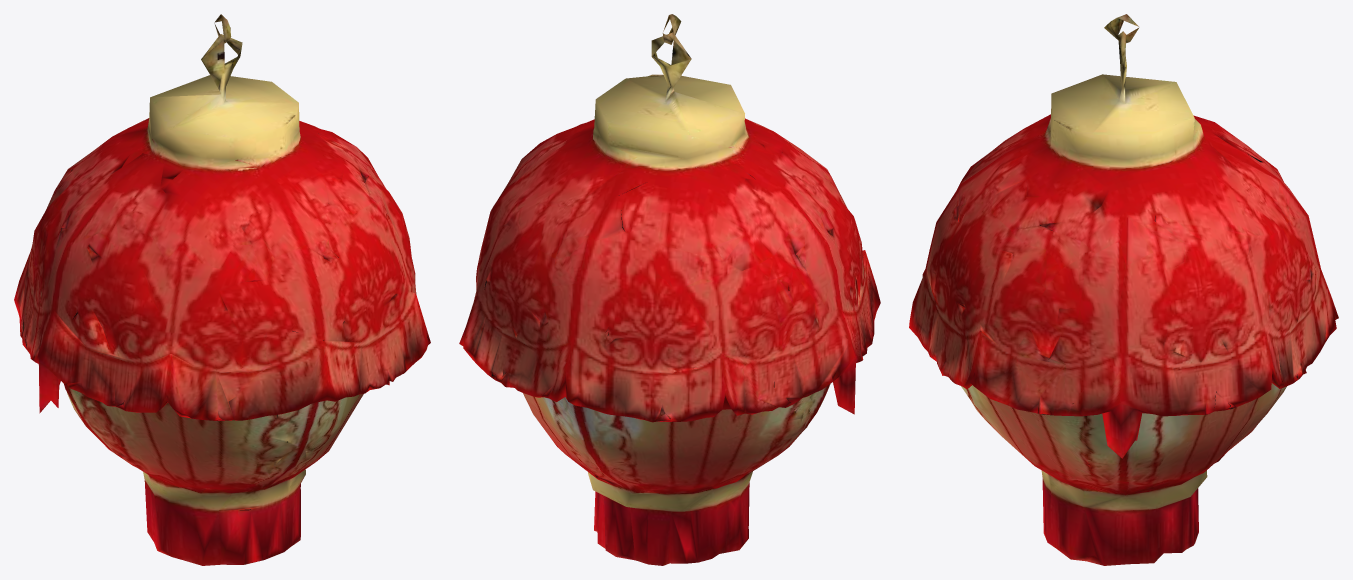
File: lib_lantern.bk.glb
3 renders of one model, left to right at view 1: azimuth 30°, elevation 25°; view 2: azimuth 150°, elevation 25°; view 3: azimuth 270°, elevation 25°, orthographic.
Visible parts, largest first — view 1: lo; view 2: lo; view 3: lo.
Part boxes in pixels (x1=…): lo: x1=14, y1=14, x2=430, y2=565; lo: x1=459, y1=14, x2=880, y2=565; lo: x1=909, y1=14, x2=1338, y2=565.
Size of the model in its own units: 1.41 by 1.9 by 1.42.
Materials: 1 (1 with a texture image).
